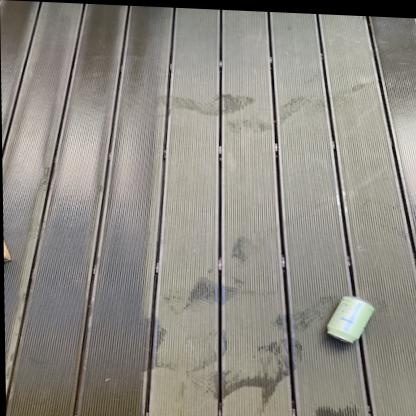trash: (327, 296, 374, 342)
